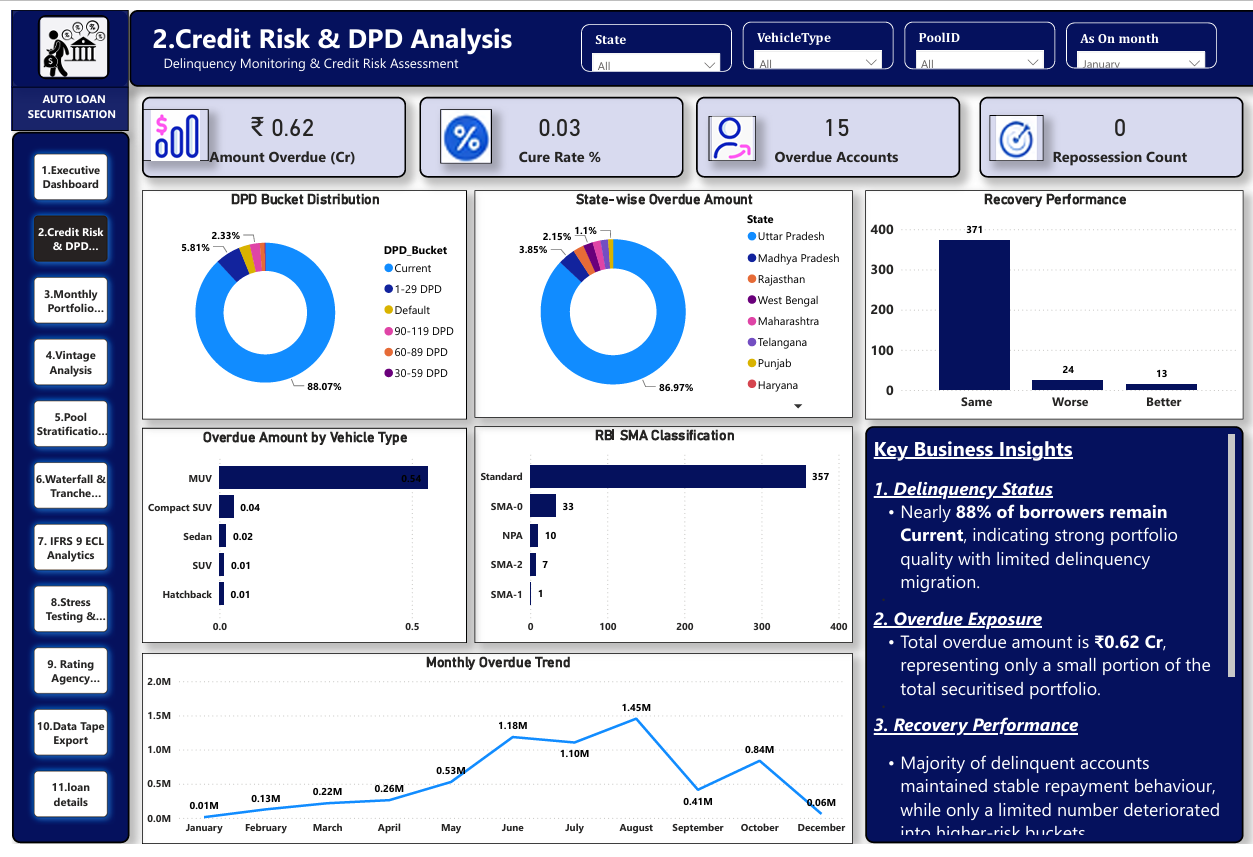

The page's visual inventory and layout, read from the dashboard file:
{"tool":"powerbi","page":{"name":"2.Credit Risk & DPD Analysis","canvas":[1500,1000],"ordinal":1},"visuals":[{"type":"shape","box":[0,0,139.9,92.9],"z":0},{"type":"textbox","box":[140.8,0,1358.9,92.2],"z":1000},{"type":"image","box":[31.4,6,85.7,77.2],"z":2000},{"type":"textbox","box":[0,91.7,139.9,53.1],"z":3000},{"type":"slicer","fields":{"Values":["Loan Master.State"]},"box":[682.8,16.9,181,56.7],"z":4000},{"type":"slicer","fields":{"Values":["Loan Master.VehicleType"]},"box":[877.1,14.5,181,56.7],"z":5000},{"type":"slicer","fields":{"Values":["Loan Master.PoolID"]},"box":[1071.3,14.5,181,56.7],"z":6000},{"type":"slicer","fields":{"Values":["Calendar.Month"]},"box":[1265.1,15.1,181,55.3],"z":7000},{"type":"donutChart","title":"DPD Bucket Distribution","fields":{"Y":["DPD History.Current Balancedpd (Cr)"],"Category":["DPD History.DPD_Bucket"]},"box":[155.8,216.2,390.4,274.8],"z":8000},{"type":"clusteredBarChart","title":"RBI SMA Classification","fields":{"Category":["DPD History.RBI_SMA_Class"],"Y":["CountNonNull(DPD History.LoanID)"]},"box":[554.6,499.3,454.1,259.7],"z":9000},{"type":"clusteredColumnChart","title":"Recovery Performance","fields":{"Category":["DPD History.RollFlag"],"Y":["CountNonNull(DPD History.LoanID)"]},"box":[1023.8,216.2,454.1,274.8],"z":10000},{"type":"barChart","title":"Overdue Amount by Vehicle Type","fields":{"Category":["Loan Master.VehicleType"],"Y":["DPD History.Amount Overdue (Cr)"]},"box":[155.8,501,390.4,258],"z":11000},{"type":"donutChart","title":"State-wise Overdue Amount","fields":{"Category":["Loan Master.State"],"Y":["DPD History.Amount Overdue (Cr)"]},"box":[554.6,216.2,454.1,273.1],"z":12000},{"type":"lineChart","title":"Monthly Overdue Trend","fields":{"Category":["DPD History.SnapshotDate.Variation.Date Hierarchy.Month"],"Y":["Sum(DPD History.AmountOverdue)"]},"box":[155.8,770.8,852.9,229.6],"z":13000},{"type":"card","fields":{"Values":["DPD History.Amount Overdue (Cr)"]},"box":[155.8,103.9,316.7,97.2],"z":14000},{"type":"card","fields":{"Values":["DPD History.Cure Rate %"]},"box":[489.3,103.9,316.7,97.2],"z":15000},{"type":"card","fields":{"Values":["DPD History.Overdue Accounts"]},"box":[821,103.9,316.7,97.2],"z":16000},{"type":"card","fields":{"Values":["DPD History.Repossession Count"]},"box":[1161.2,103.9,316.7,97.2],"z":17000},{"type":"pageNavigator","box":[0,145.8,140.8,852.9],"z":18000},{"type":"image","box":[514.4,119,62,65.3],"z":19000},{"type":"image","box":[155.8,119,80.4,62],"z":20000},{"type":"image","box":[1172.9,125.7,65.3,55.3],"z":21000},{"type":"image","box":[836.1,127.3,57,53.6],"z":22000},{"type":"textbox","box":[1023.8,499.3,454.1,499.3],"z":23000}]}

Visuals, with their boxes on the page's 1500x1000 design canvas (x1, y1, x2, y2). These are canvas units, not pixel positions in the 1253x857 screenshot, which may show the page scaled, cropped or inside an application window:
shape: 0:0:140:93
textbox: 141:0:1500:92
image: 31:6:117:83
textbox: 0:92:140:145
slicer - Loan Master.State: 683:17:864:74
slicer - Loan Master.VehicleType: 877:14:1058:71
slicer - Loan Master.PoolID: 1071:14:1252:71
slicer - Calendar.Month: 1265:15:1446:70
"DPD Bucket Distribution" donutChart: 156:216:546:491
"RBI SMA Classification" clusteredBarChart: 555:499:1009:759
"Recovery Performance" clusteredColumnChart: 1024:216:1478:491
"Overdue Amount by Vehicle Type" barChart: 156:501:546:759
"State-wise Overdue Amount" donutChart: 555:216:1009:489
"Monthly Overdue Trend" lineChart: 156:771:1009:1000
card - DPD History.Amount Overdue (Cr): 156:104:472:201
card - DPD History.Cure Rate %: 489:104:806:201
card - DPD History.Overdue Accounts: 821:104:1138:201
card - DPD History.Repossession Count: 1161:104:1478:201
pageNavigator: 0:146:141:999
image: 514:119:576:184
image: 156:119:236:181
image: 1173:126:1238:181
image: 836:127:893:181
textbox: 1024:499:1478:999
